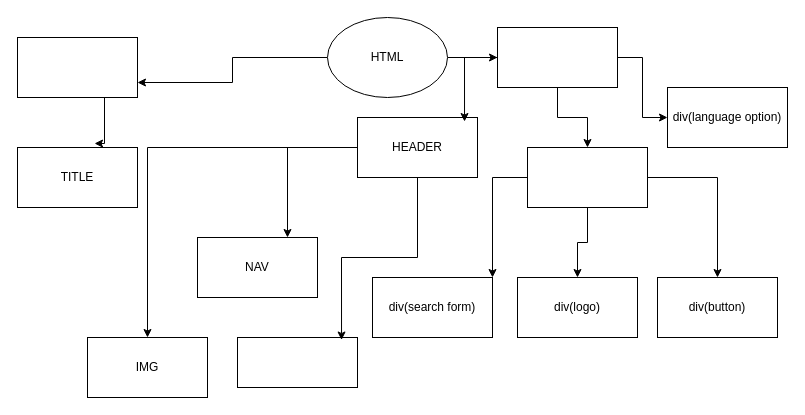
The diagram is 805 pixels wide and 415 high, and some of its shapes have lost their labels. The centre of each missing label's shape, as x and y in pixels:
"a(multiple task)" belongs at point 297,362.
"BODY" belongs at point 557,57.
"HEAD" belongs at point 77,67.
"main" belongs at point 587,177.
